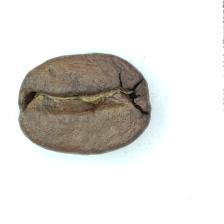NG: (25, 74, 147, 136)
